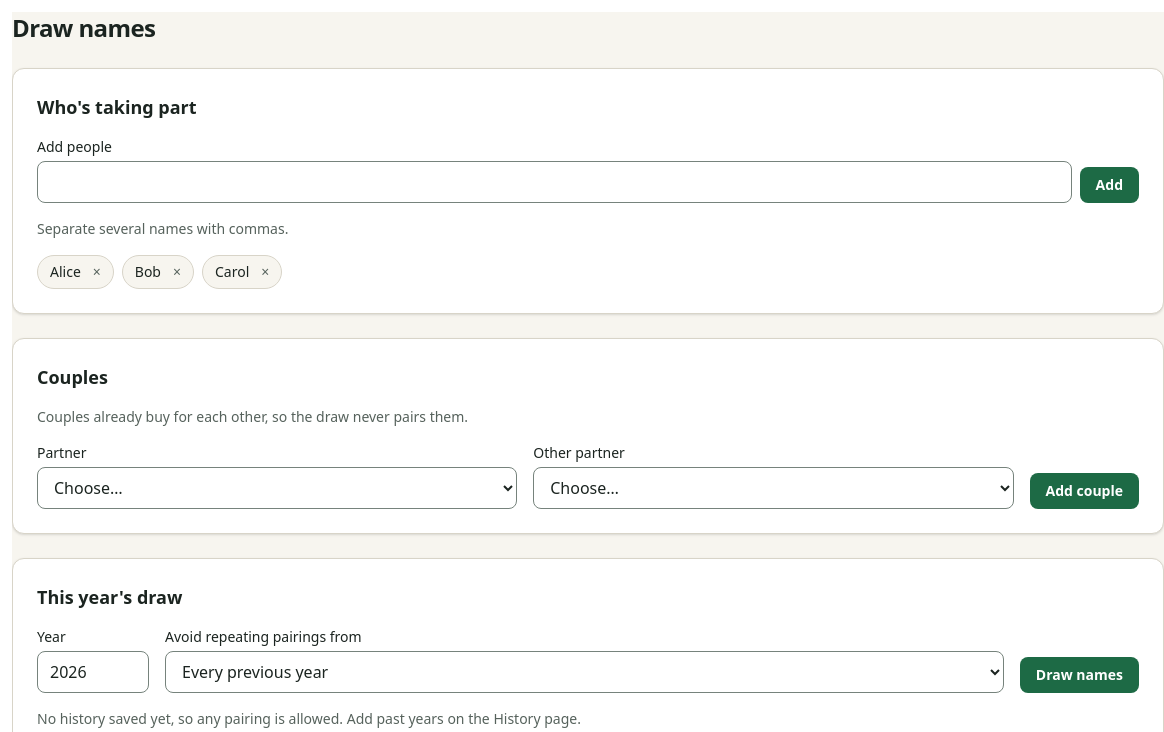
Test: DrawPanel › draws a pairing for everyone
The image size is (1164, 732).
Click the button "Draw names": point(1079, 675) [1020,657,1139,693]
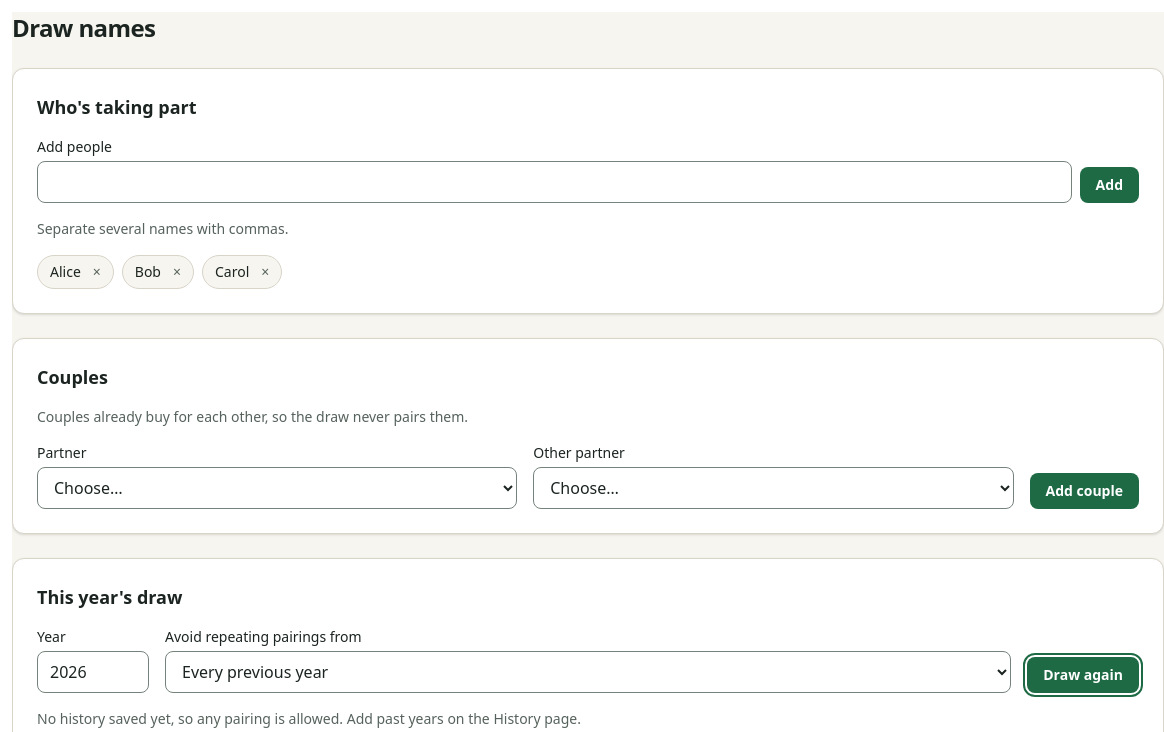
Expected: the button "Draw again" is shown, [1027,657,1139,693]
